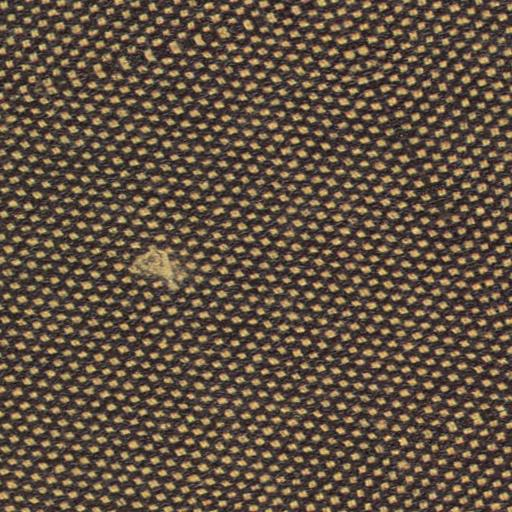knot: (123, 243, 190, 292)
